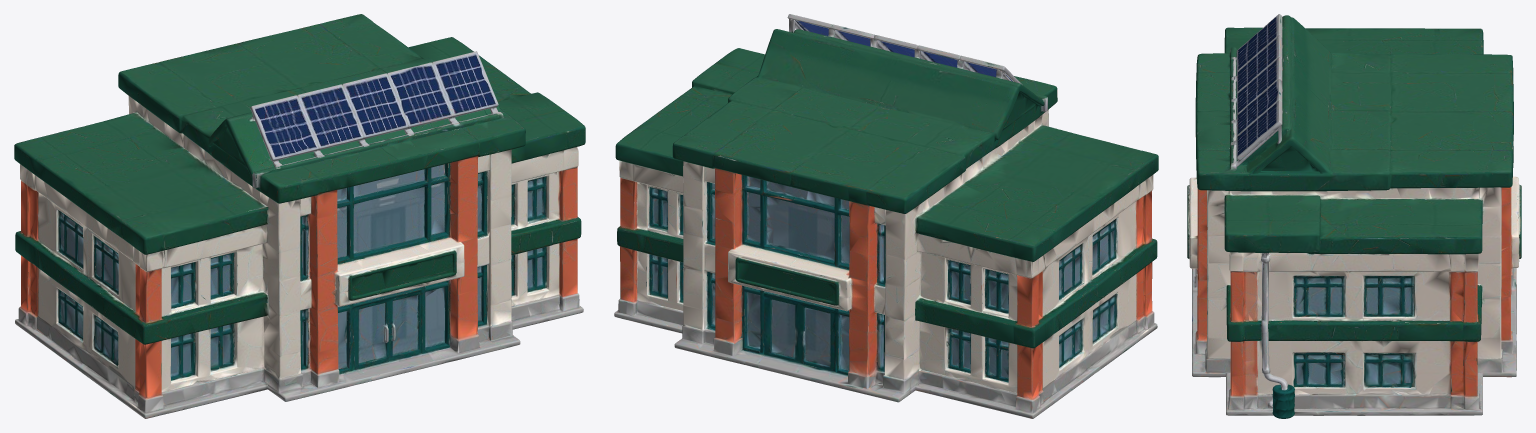
Rendered from carbon-archive-cozy-v1.glb.
The picture shows the model from 3 angles, left to right: view 1: azimuth 30°, elevation 25°; view 2: azimuth 150°, elevation 25°; view 3: azimuth 270°, elevation 25°; orthographic projection. The views are drawn at different scales.
Bounding box in the file's own units: 1.9 × 1.05 × 1.23.
1 material, 1 textured.
